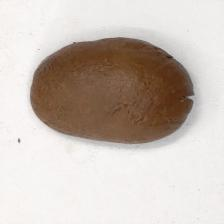NG: (164, 55, 195, 117)
